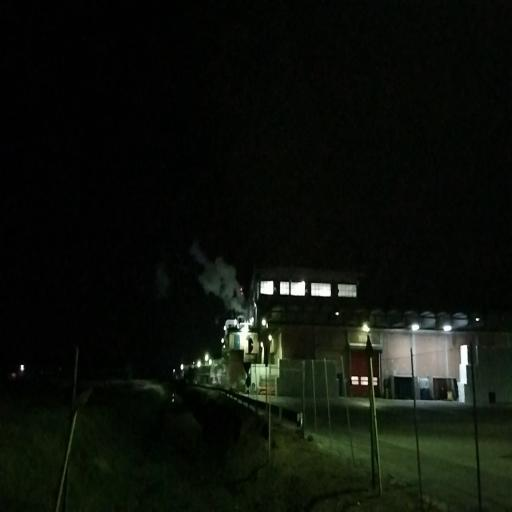leakage: (184, 232, 256, 326)
